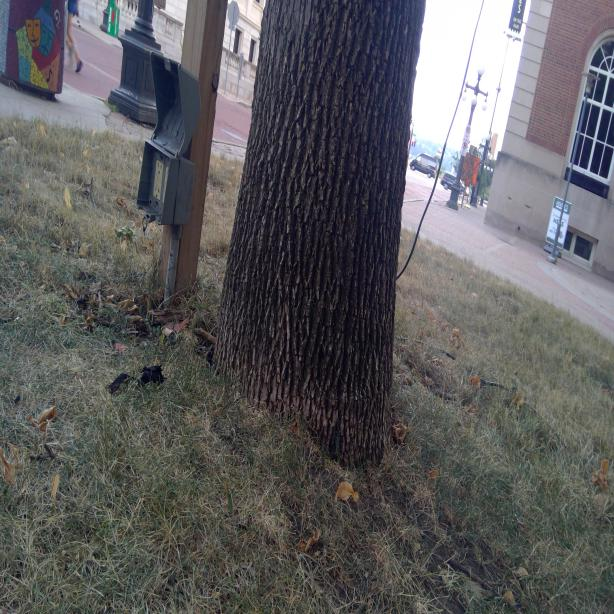typeb: (154, 157, 166, 177), (152, 182, 160, 198)
